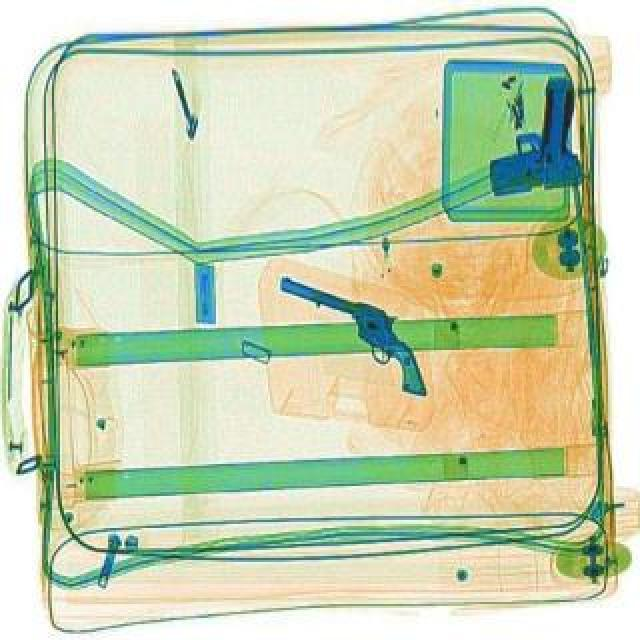gun: (256, 270, 456, 398), (490, 74, 582, 194)
